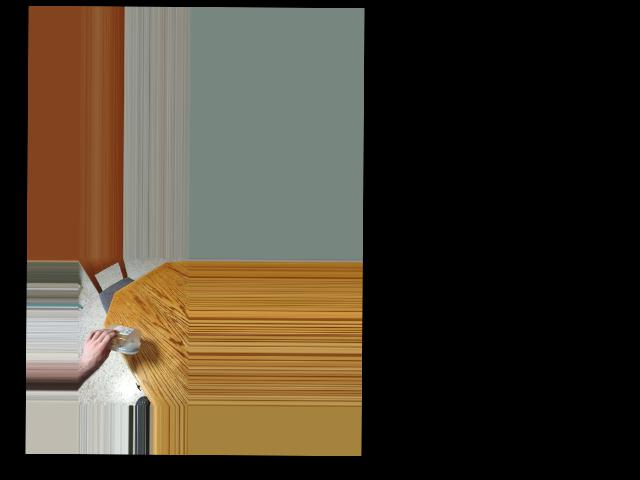cheese: (95, 323, 132, 357)
